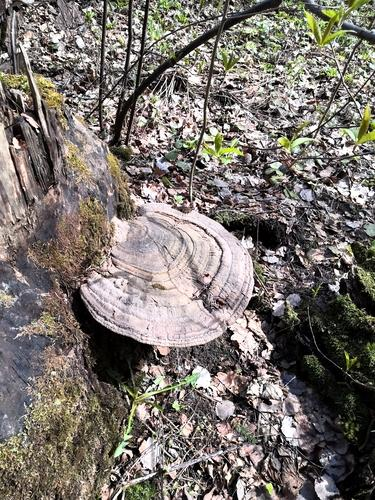Ganoderma - Fruit Body: (78, 198, 253, 349)
